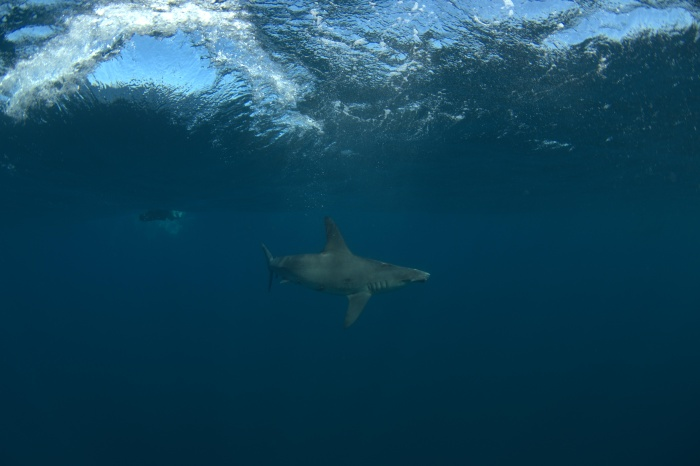Hammer: (232, 197, 445, 335)
